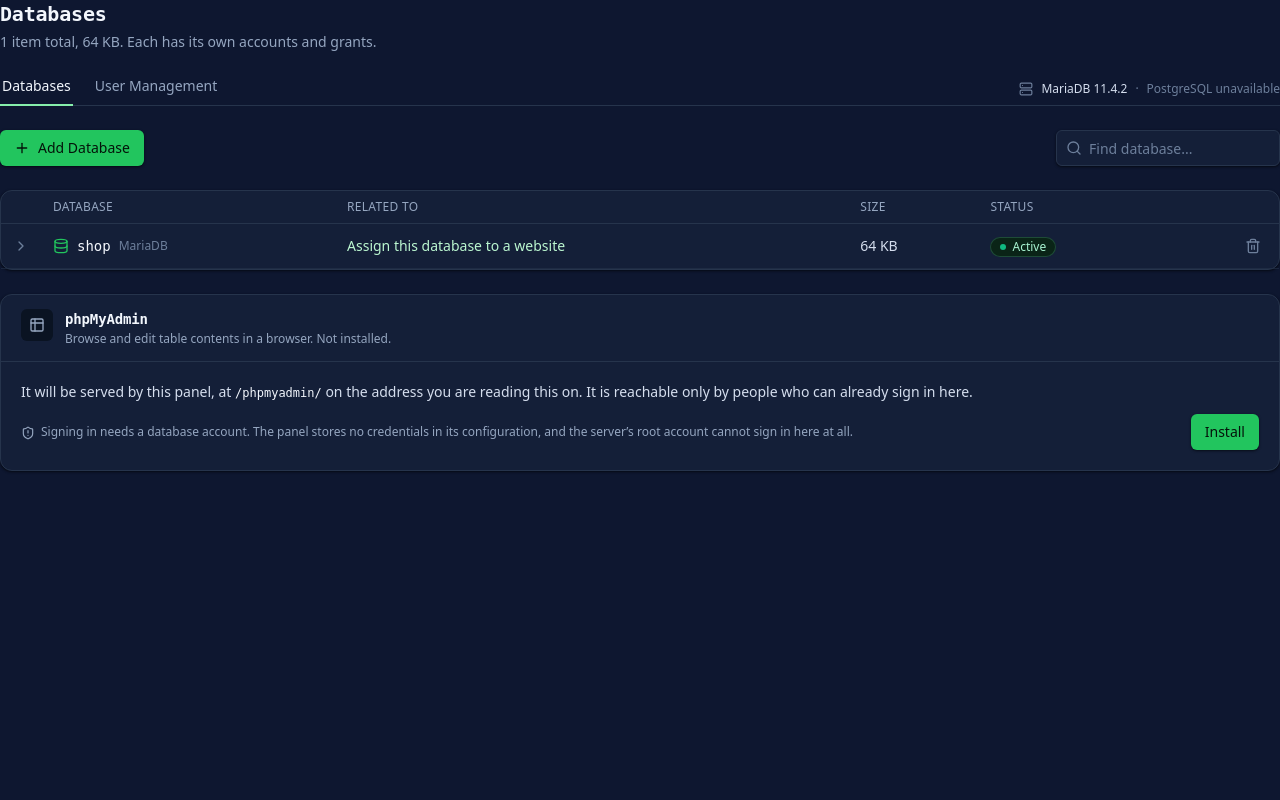
Scenario: DatabasesPage › warns that other accounts lose access before deleting a database
Expected: the button "shop" is shown, [77,236,111,256]
Click the button named "Delete shop": [1253, 246] box [1239,232,1267,260]
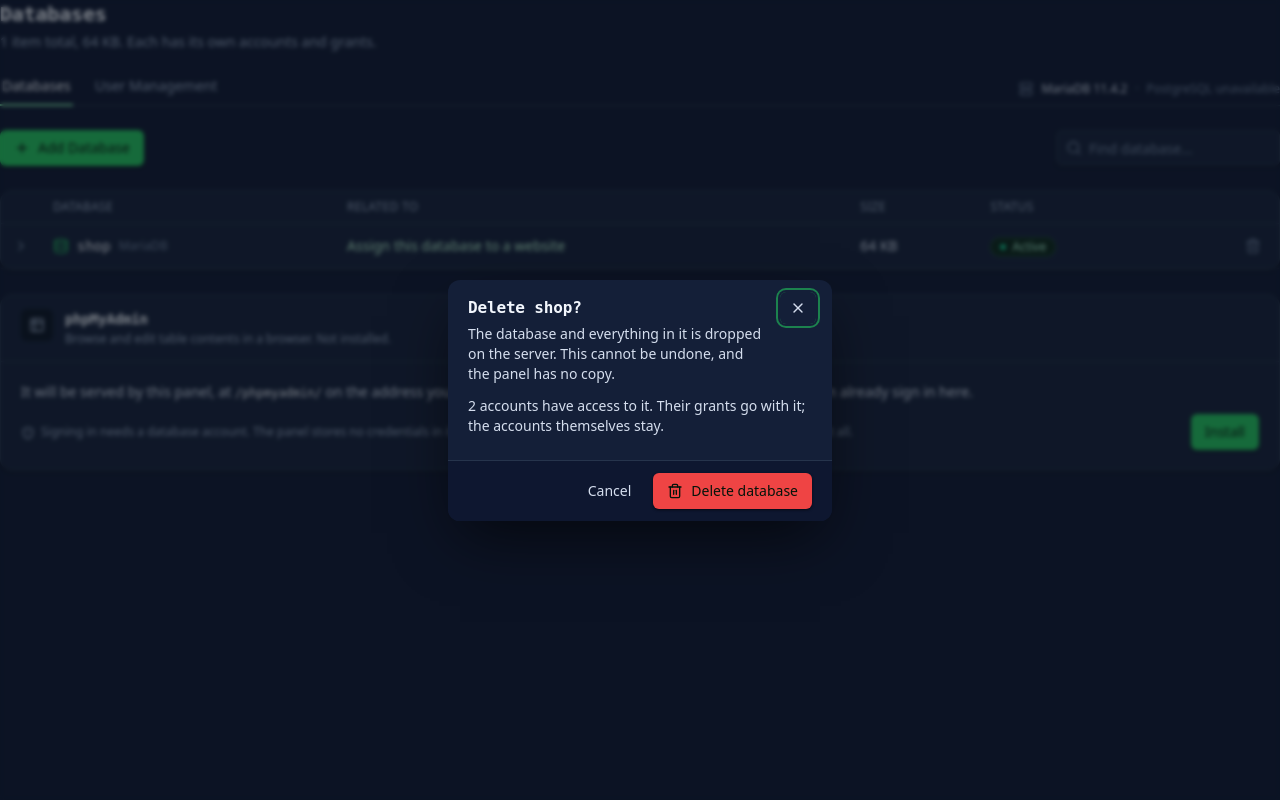
Now the text "2 accounts have" is shown, box [468,396,812,436]
Now the text "cannot be undone" is shown, box [468,324,761,382]
